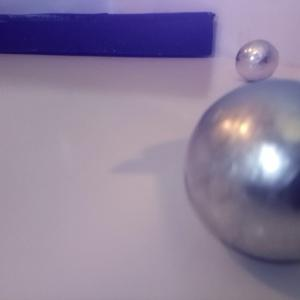zone: (1, 11, 216, 58)
